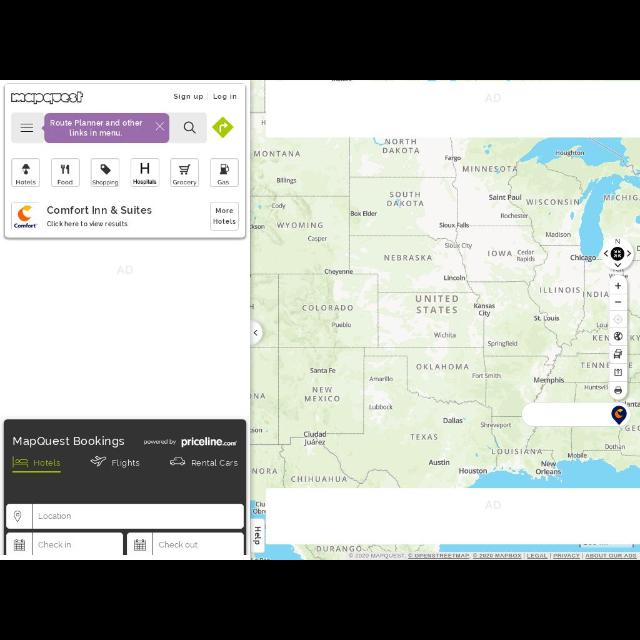button: (12, 114, 44, 144), (12, 159, 40, 187), (52, 159, 80, 187), (91, 158, 119, 186), (131, 159, 159, 187), (171, 159, 199, 187), (210, 159, 238, 187), (210, 202, 238, 230)
icon: (212, 118, 234, 138), (12, 455, 28, 467), (170, 456, 187, 466), (90, 456, 106, 466), (14, 539, 26, 551), (184, 121, 196, 132), (180, 164, 190, 176), (134, 540, 146, 550), (21, 124, 34, 132), (101, 164, 111, 174), (141, 162, 149, 174), (156, 122, 164, 132), (22, 164, 30, 174), (220, 164, 228, 174), (61, 166, 69, 174), (14, 511, 20, 521)
image: (18, 206, 32, 222)
input: (7, 504, 244, 528), (127, 532, 243, 556), (7, 532, 123, 556)
map: (250, 81, 638, 559)
text: (51, 120, 143, 136), (12, 436, 124, 448), (11, 92, 83, 104), (47, 206, 151, 214), (180, 437, 236, 448), (47, 221, 127, 227), (192, 459, 238, 466), (112, 458, 140, 468), (39, 540, 71, 548), (174, 93, 203, 101), (160, 542, 198, 548), (38, 513, 72, 519), (144, 440, 176, 446), (34, 459, 61, 466), (214, 93, 236, 101), (92, 180, 118, 186), (214, 218, 236, 224), (174, 180, 196, 186), (215, 208, 232, 214), (15, 224, 38, 228), (134, 180, 156, 184), (16, 180, 36, 184), (58, 180, 74, 184), (218, 180, 228, 184)
